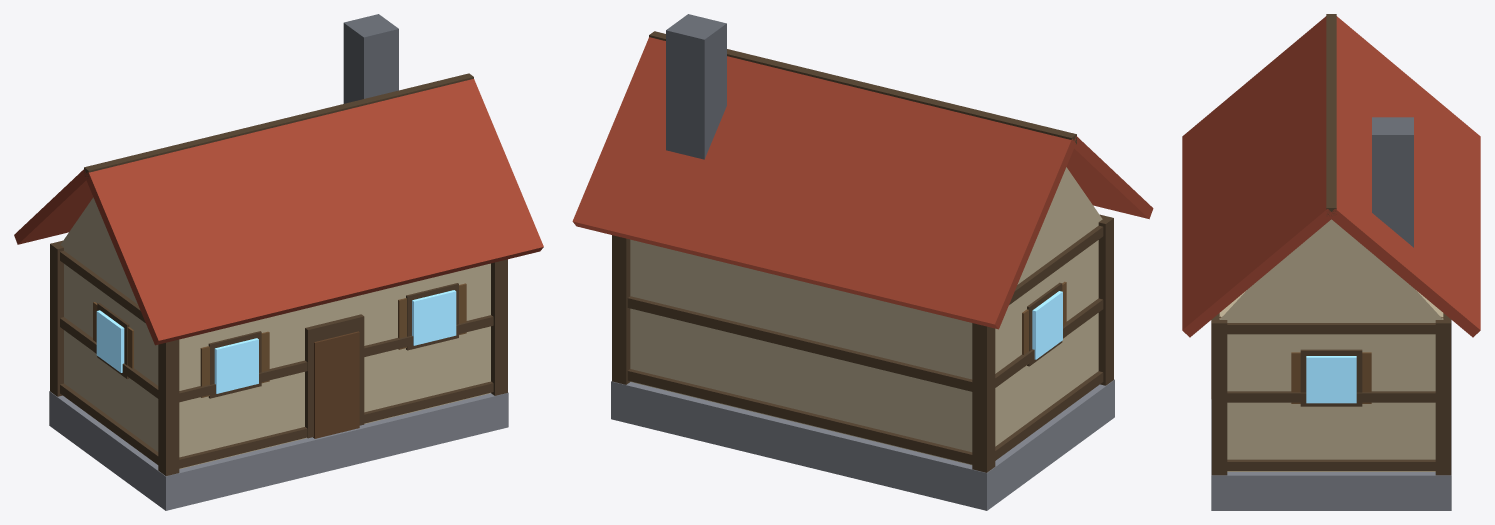
File: Building_2.glb
3 renders of one model, left to right at view 1: azimuth 30°, elevation 25°; view 2: azimuth 150°, elevation 25°; view 3: azimuth 270°, elevation 25°, orthographic. The views are drawn at different scales.
Size of the model in its own units: 8.2 by 7.1 by 5.34.
